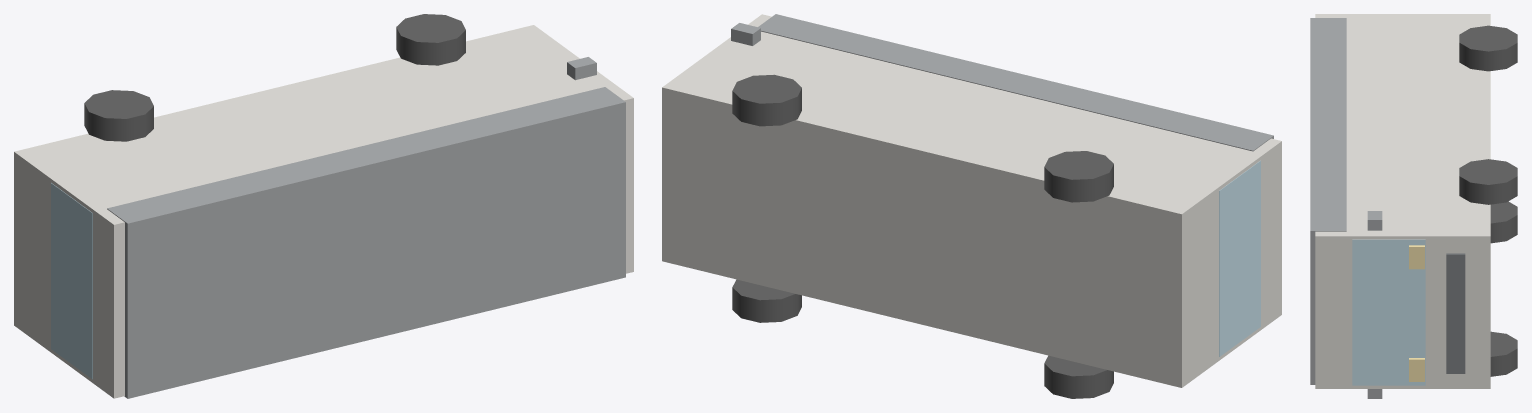
The model's file is bus.glb.
3 renders of one model, left to right at view 1: azimuth 30°, elevation 25°; view 2: azimuth 150°, elevation 25°; view 3: azimuth 270°, elevation 25°, orthographic. The views are drawn at different scales.
Parts seen in each view (by area): view 1: bus; view 2: bus; view 3: bus.
Part boxes in pixels (x1,y1,x2,y2): bus: (14,14,633,398); bus: (662,14,1281,398); bus: (1310,14,1517,398).
Size of the model in its own units: 7.27 by 2.9 by 2.84.
